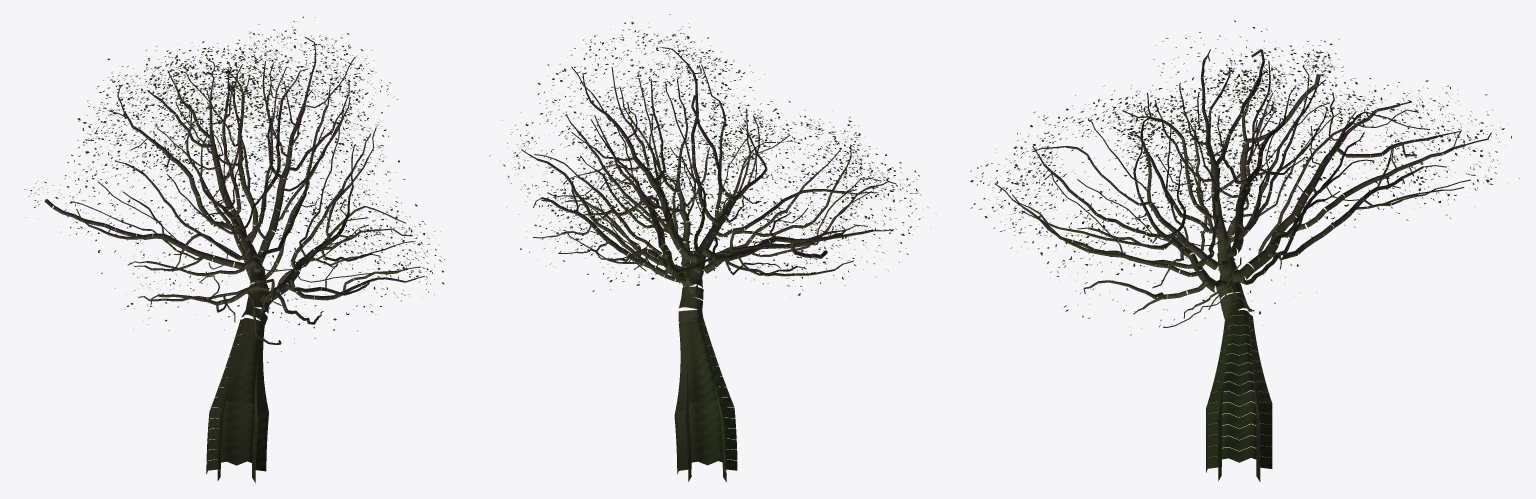
The model's file is SM_Tree_hawthorn_1.glb.
The picture shows the model from 3 angles, left to right: view 1: azimuth 30°, elevation 25°; view 2: azimuth 150°, elevation 25°; view 3: azimuth 270°, elevation 25°; orthographic projection. The views are drawn at different scales.
Parts seen in each view (by area): view 1: SM_Tree_hawthorn_1; view 2: SM_Tree_hawthorn_1; view 3: SM_Tree_hawthorn_1.
Boxes of the visible parts, box(x1,y1,x2,y2) form: SM_Tree_hawthorn_1: box(24, 16, 444, 482); SM_Tree_hawthorn_1: box(489, 14, 928, 482); SM_Tree_hawthorn_1: box(970, 20, 1519, 481).
Bounding box in the file's own units: 4.88 × 5.55 × 5.88.
